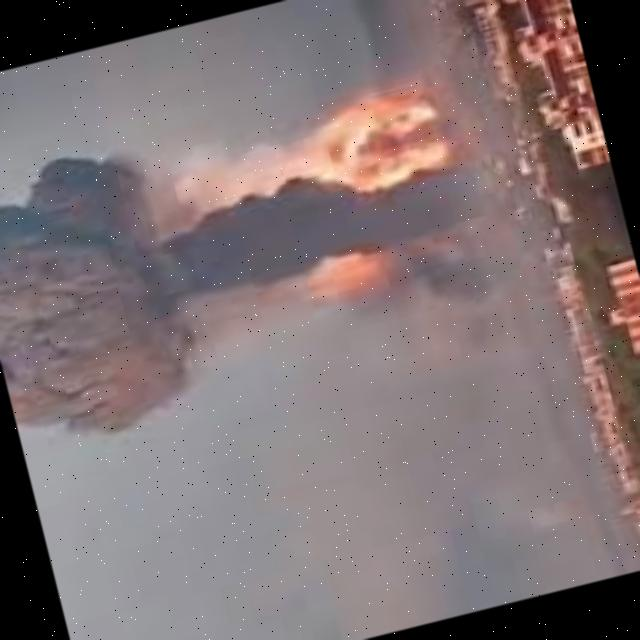explosion: (0, 39, 575, 469)
